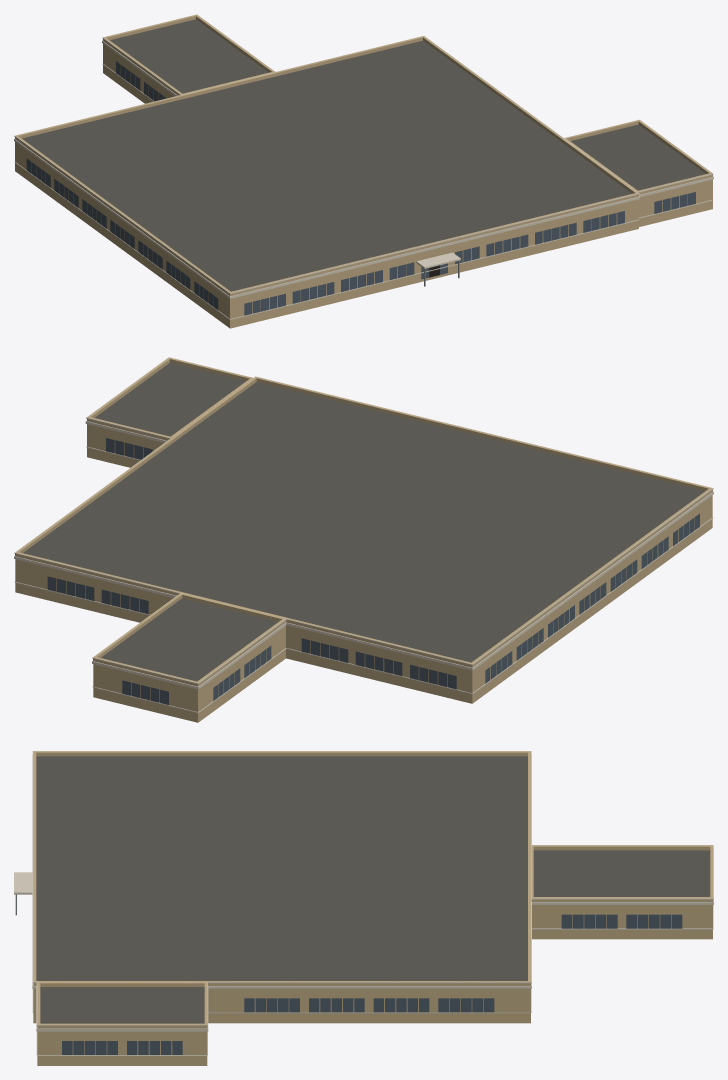
The model's file is terry-elementary.glb.
3 views of the same model, one above another, from view 1: azimuth 30°, elevation 25°; view 2: azimuth 150°, elevation 25°; view 3: azimuth 270°, elevation 25° (orthographic). The views are drawn at different scales.
Parts seen in each view (by area): view 1: terry_elementary; view 2: terry_elementary; view 3: terry_elementary.
Part boxes in pixels (<box>): terry_elementary: <box>14,14,713,328</box>; terry_elementary: <box>14,357,713,722</box>; terry_elementary: <box>14,751,713,1065</box>.
Bounding box in the file's own units: 80.24 × 5.6 × 86.52.
